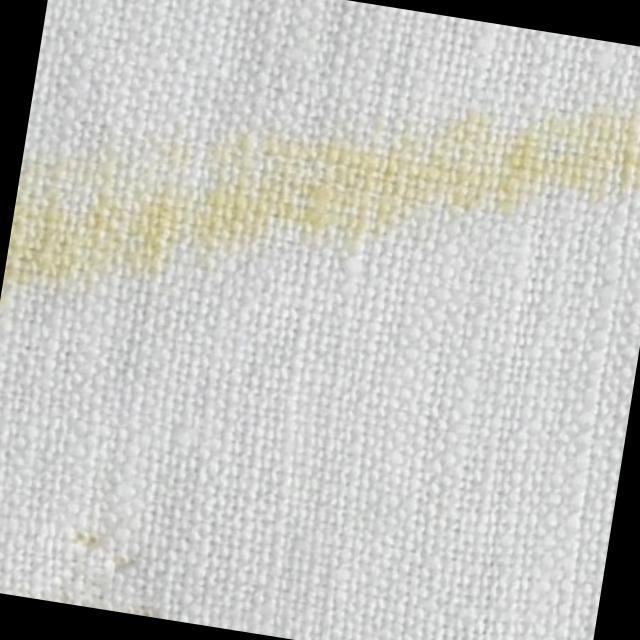Stain: (2, 4, 640, 379), (57, 520, 144, 586)
